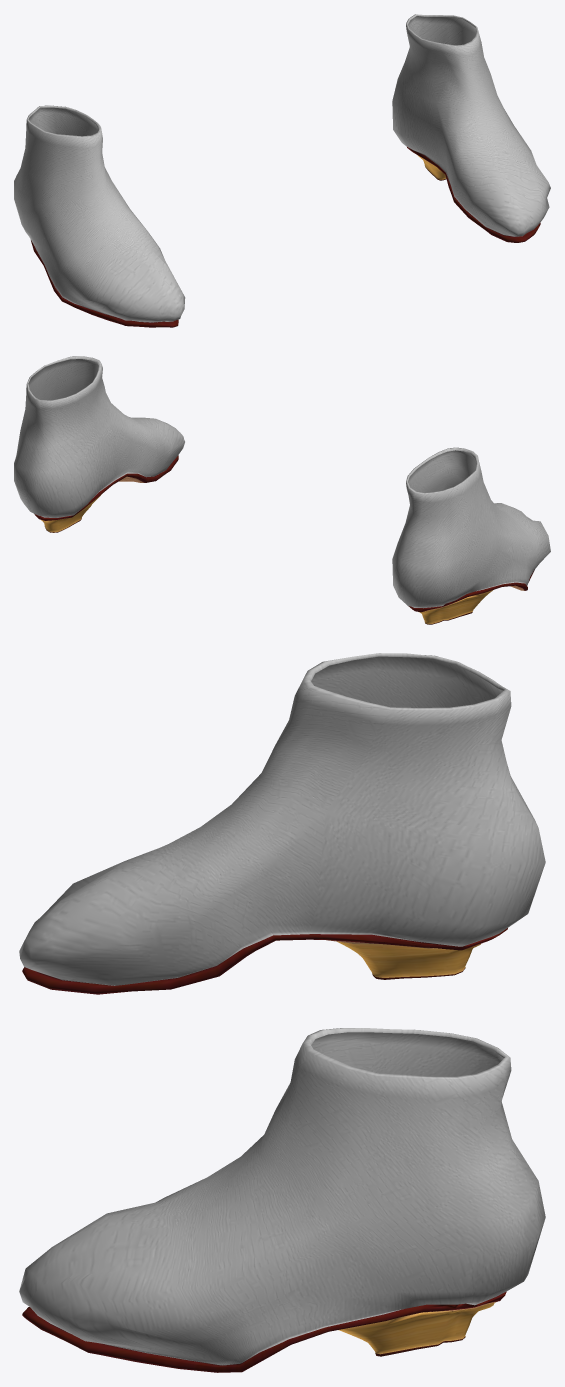
Rendered from toigo-ankle-boots-female.glb.
3 views of the same model, one above another, from view 1: azimuth 30°, elevation 25°; view 2: azimuth 150°, elevation 25°; view 3: azimuth 270°, elevation 25° (orthographic). The views are drawn at different scales.
Visible parts, largest first — view 1: Human.toigo_ankle_boots_female; view 2: Human.toigo_ankle_boots_female; view 3: Human.toigo_ankle_boots_female.
Part boxes in pixels (x1,y1,x2,y2): Human.toigo_ankle_boots_female: (14,14,550,327); Human.toigo_ankle_boots_female: (14,356,550,624); Human.toigo_ankle_boots_female: (19,653,545,1372).
Bounding box in the file's own units: 0.5207 × 0.1566 × 0.2518.
Materials: 1 (1 with a texture image).
